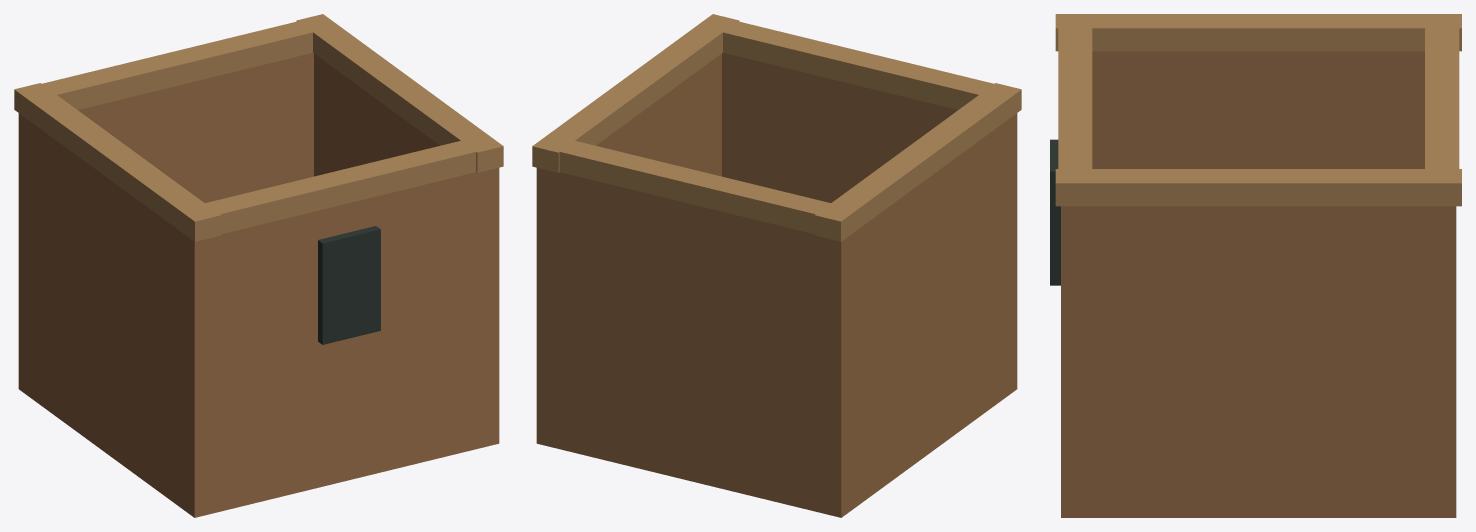
Rendered from normal-small.glb.
3 renders of one model, left to right at view 1: azimuth 30°, elevation 25°; view 2: azimuth 150°, elevation 25°; view 3: azimuth 270°, elevation 25°, orthographic. The views are drawn at different scales.
Parts seen in each view (by area): view 1: Mesh_CargoContainer_Cargo_Paint; view 2: Mesh_CargoContainer_Cargo_Paint; view 3: Mesh_CargoContainer_Cargo_Paint.
Part boxes in pixels (x1,y1,x2,y2): Mesh_CargoContainer_Cargo_Paint: [14, 14, 503, 517]; Mesh_CargoContainer_Cargo_Paint: [532, 14, 1021, 517]; Mesh_CargoContainer_Cargo_Paint: [1050, 14, 1461, 517].
Size of the model in its own units: 0.223 by 0.206 by 0.229.
